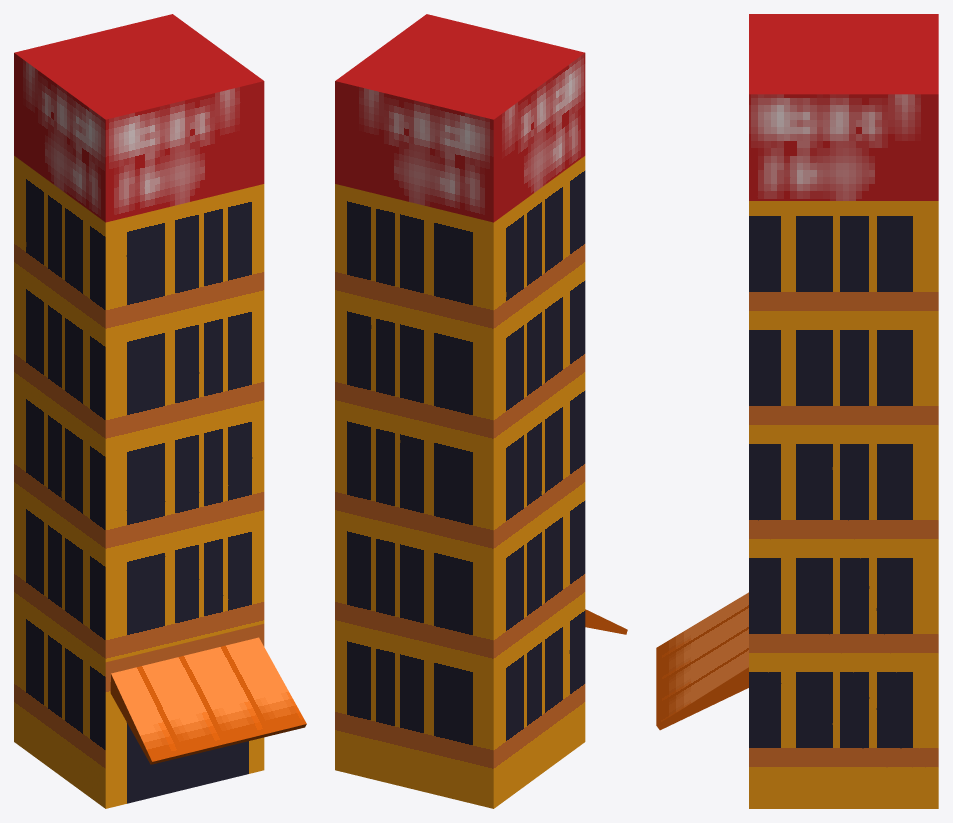
Rendered from Market.fbx.
3 renders of one model, left to right at view 1: azimuth 30°, elevation 25°; view 2: azimuth 150°, elevation 25°; view 3: azimuth 270°, elevation 25°, orthographic. The views are drawn at different scales.
Visible parts, largest first — view 1: sHOP; view 2: sHOP; view 3: sHOP.
Part boxes in pixels (x1,y1,x2,y2): sHOP: [14, 14, 306, 808]; sHOP: [335, 14, 627, 808]; sHOP: [656, 14, 938, 808].
Bounding box in the file's own units: 200 × 830 × 298.
2 materials, 2 textured.
